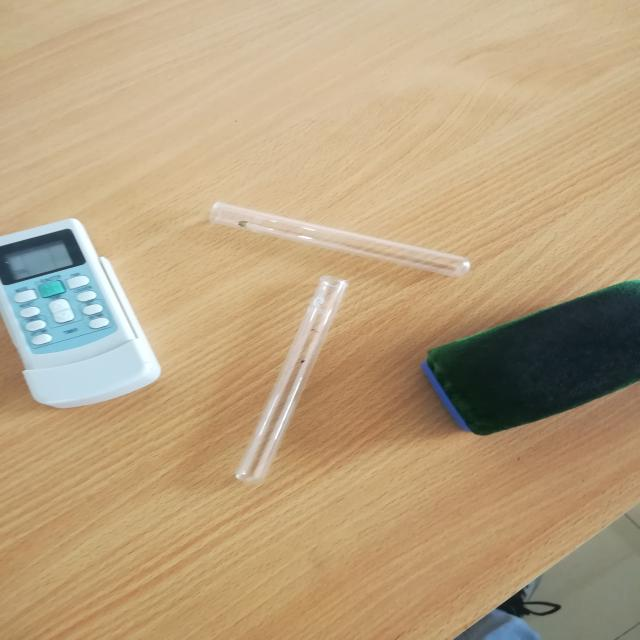Test_Tube: (174, 160, 492, 307), (209, 257, 361, 516)
